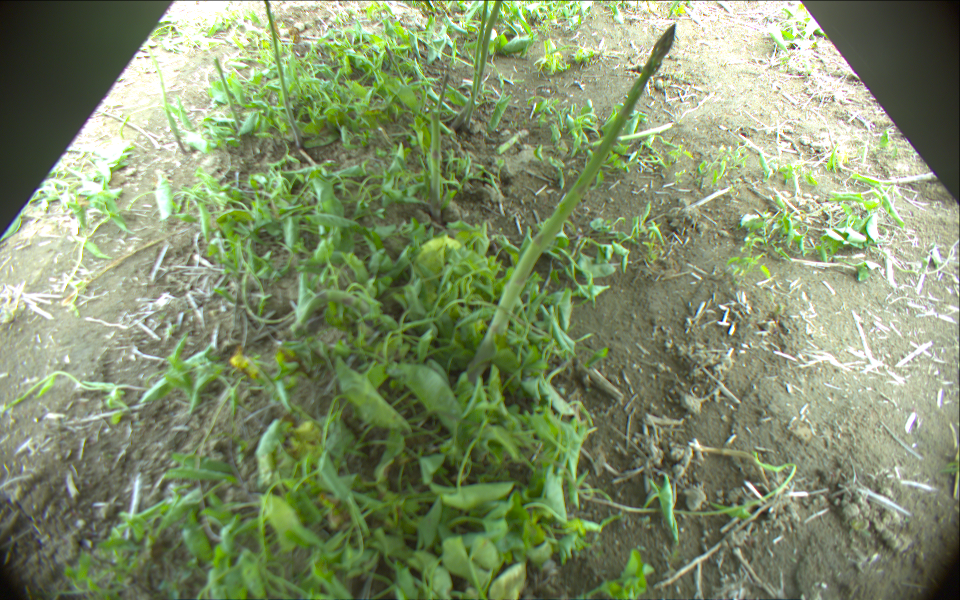aspa: (457, 23, 676, 385), (451, 1, 504, 126), (262, 1, 302, 145), (146, 41, 189, 152), (466, 1, 489, 126), (215, 56, 241, 130), (428, 109, 443, 200), (430, 65, 453, 113), (383, 44, 407, 85)
